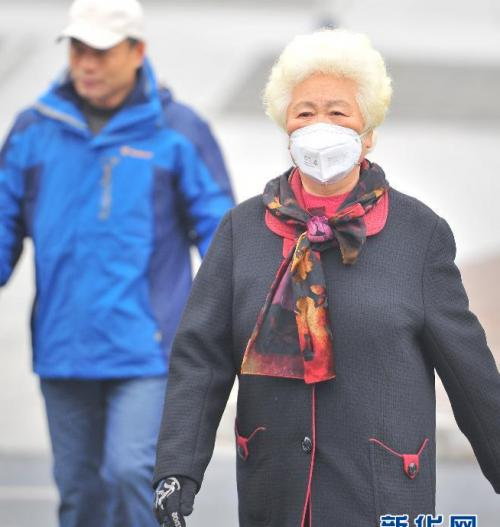person: (156, 25, 500, 514), (3, 1, 243, 527)
